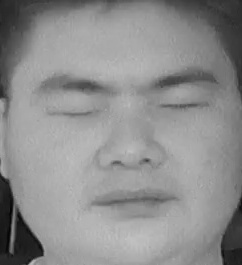blink: (49, 96, 97, 127), (163, 91, 207, 123)
mouth: (91, 180, 176, 224)
